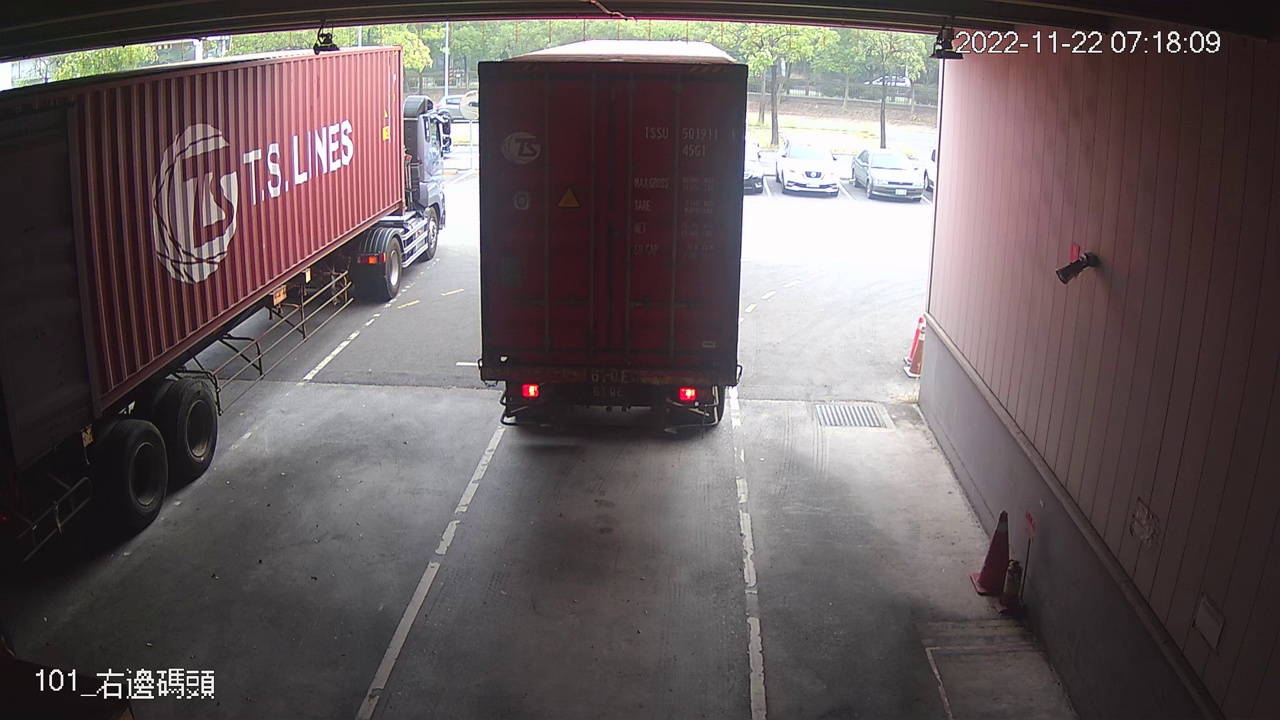container: (638, 121, 739, 163)
